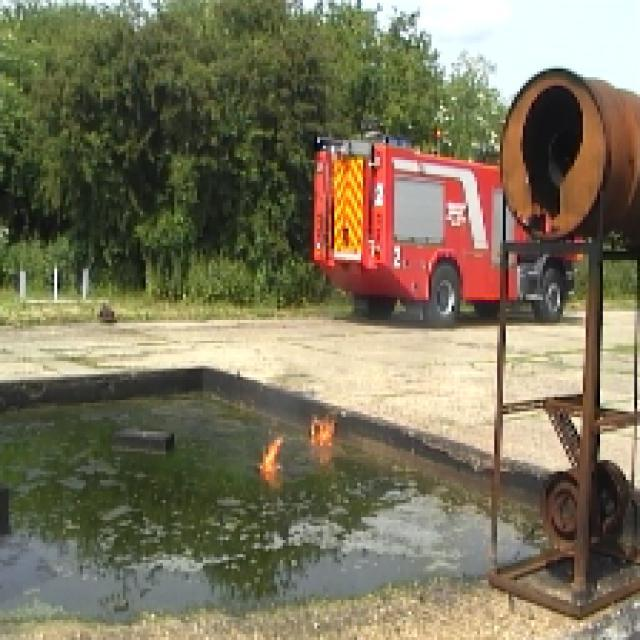Fire: (257, 434, 294, 477), (308, 411, 342, 444)
